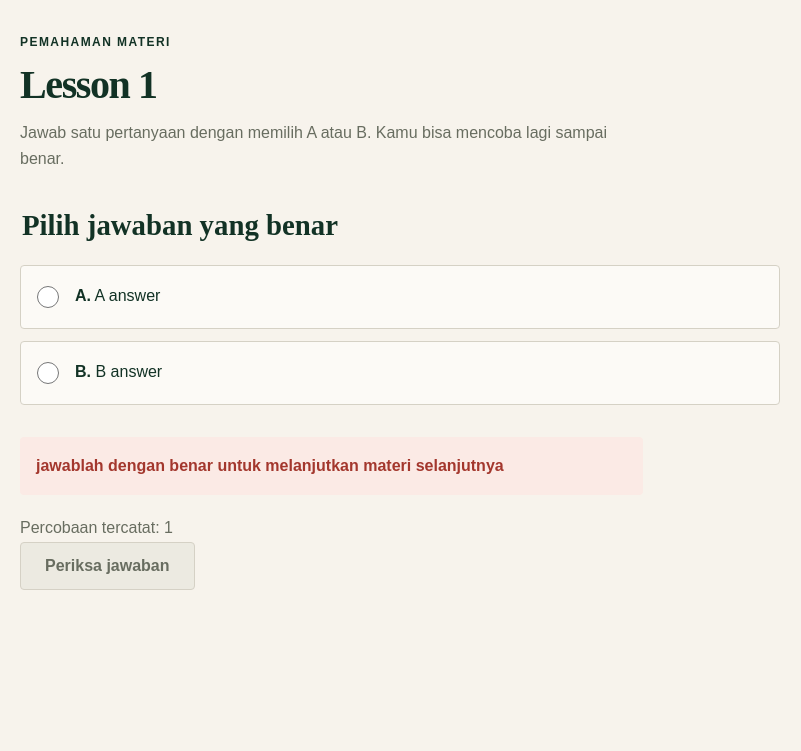
Test: committed answer with lost acknowledgement reconciles revision and disables duplicate retry
Expected: the text "Pilih jawaban yang benar" is shown, [20,205,340,245]
Click the radio button labelled "B. B answer". click: (48, 373)
box: [37,362,59,384]
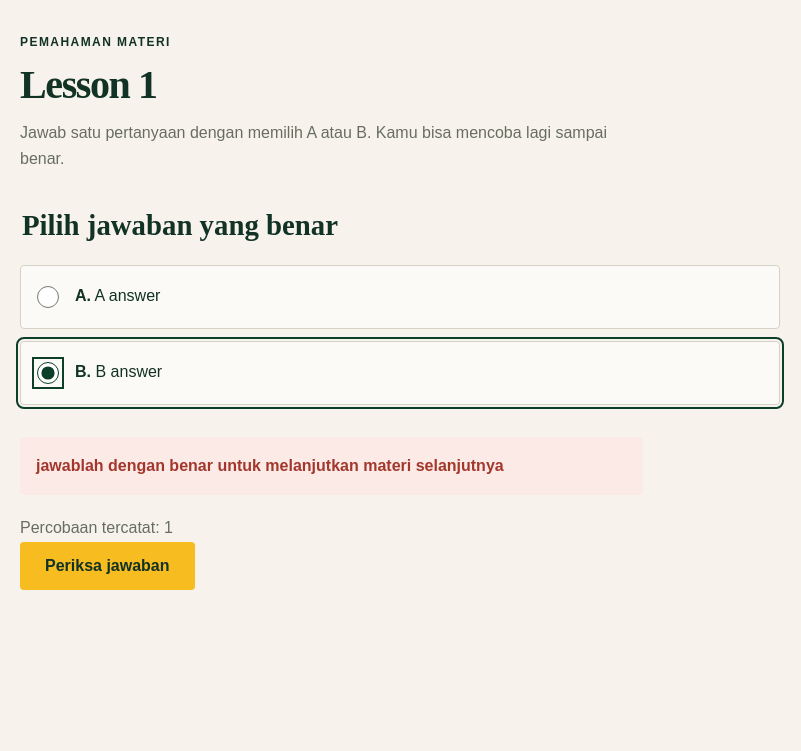
Click the button "Periksa jawaban". click: (107, 566)
box: [20,542,194,590]
(page scrolled)
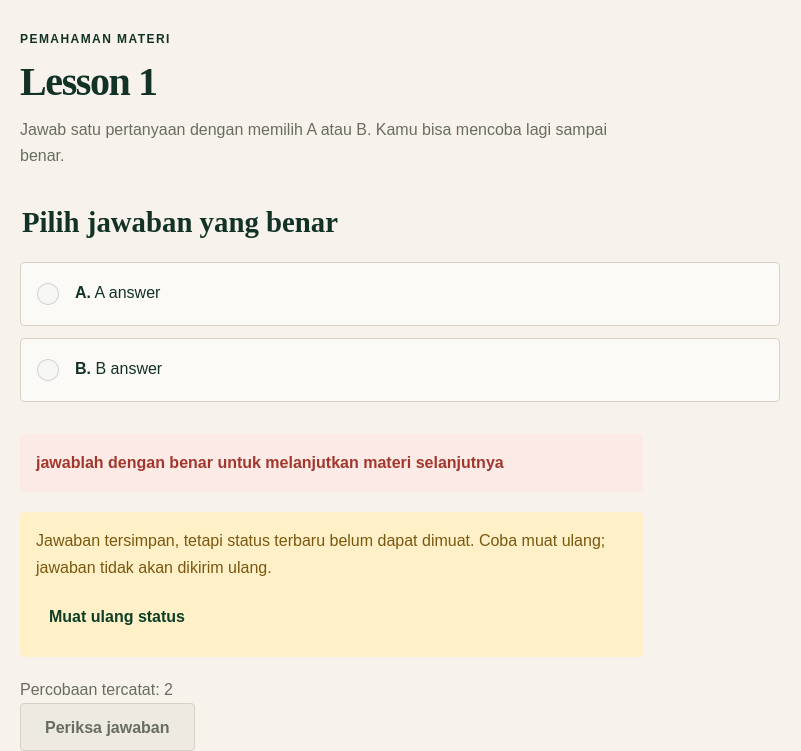
Expected: the text "Jawaban tersimpan" is shown, [36,532,605,576]
Expected: the button "Periksa jawaban" is disabled, [20,704,194,750]
